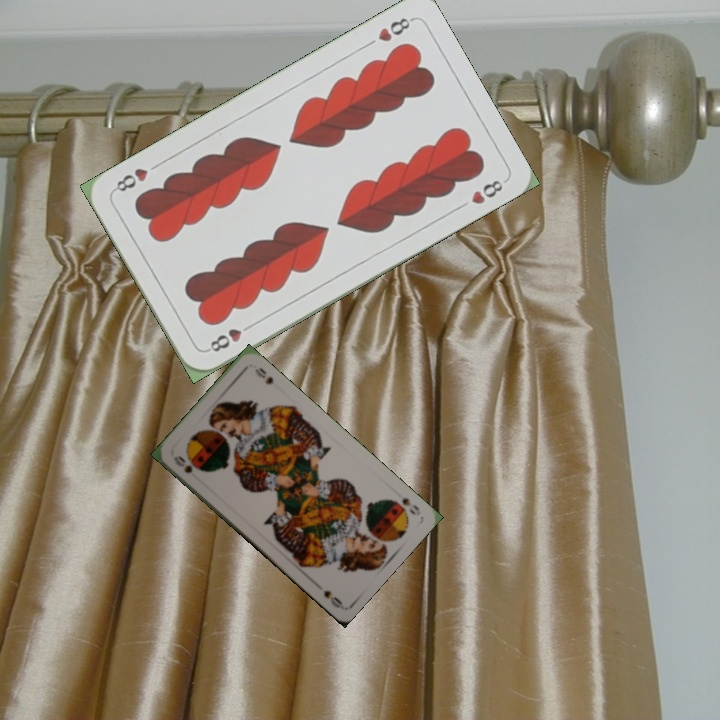H8: (203, 319, 256, 355), (374, 13, 415, 45)
SO: (391, 494, 422, 518), (169, 452, 195, 476)
